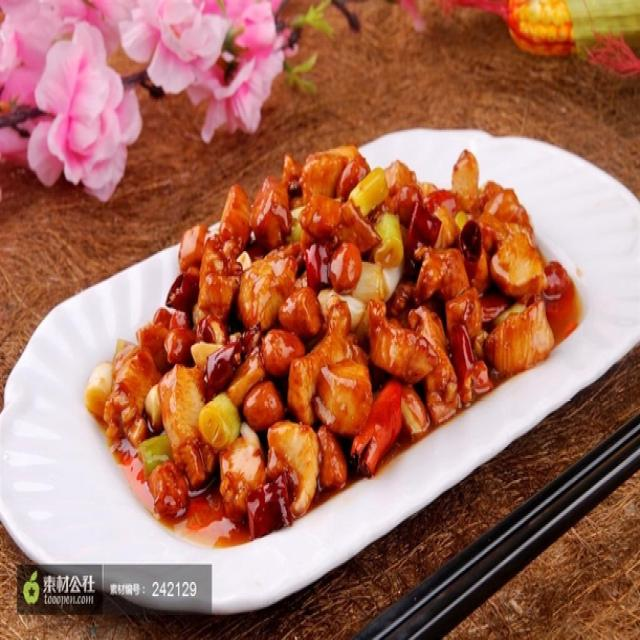鸡肉料理 含炸鸡: (10, 115, 628, 602)
